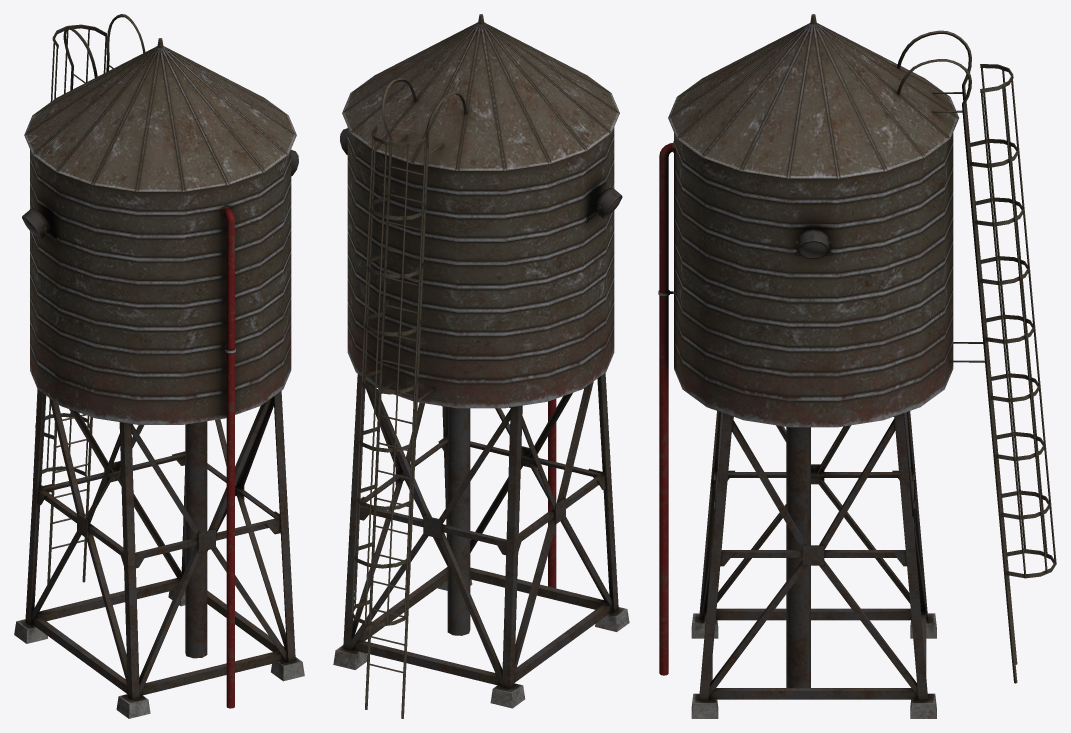
The model's file is Water_Tower_04.fbx.
3 views of the same model, side by side, from view 1: azimuth 30°, elevation 25°; view 2: azimuth 150°, elevation 25°; view 3: azimuth 270°, elevation 25° (orthographic). The views are drawn at different scales.
Parts seen in each view (by area): view 1: Water_Tower_4; view 2: Water_Tower_4; view 3: Water_Tower_4.
Boxes of the visible parts, x1,y1,x2,y2 form: Water_Tower_4: (14,14,304,718); Water_Tower_4: (333,14,629,718); Water_Tower_4: (658,14,1056,718).
Size of the model in its own units: 499 by 1085 by 595.
